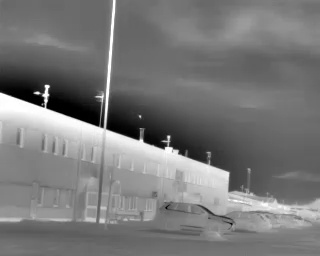HELICOPTER: (136, 112, 144, 120)
